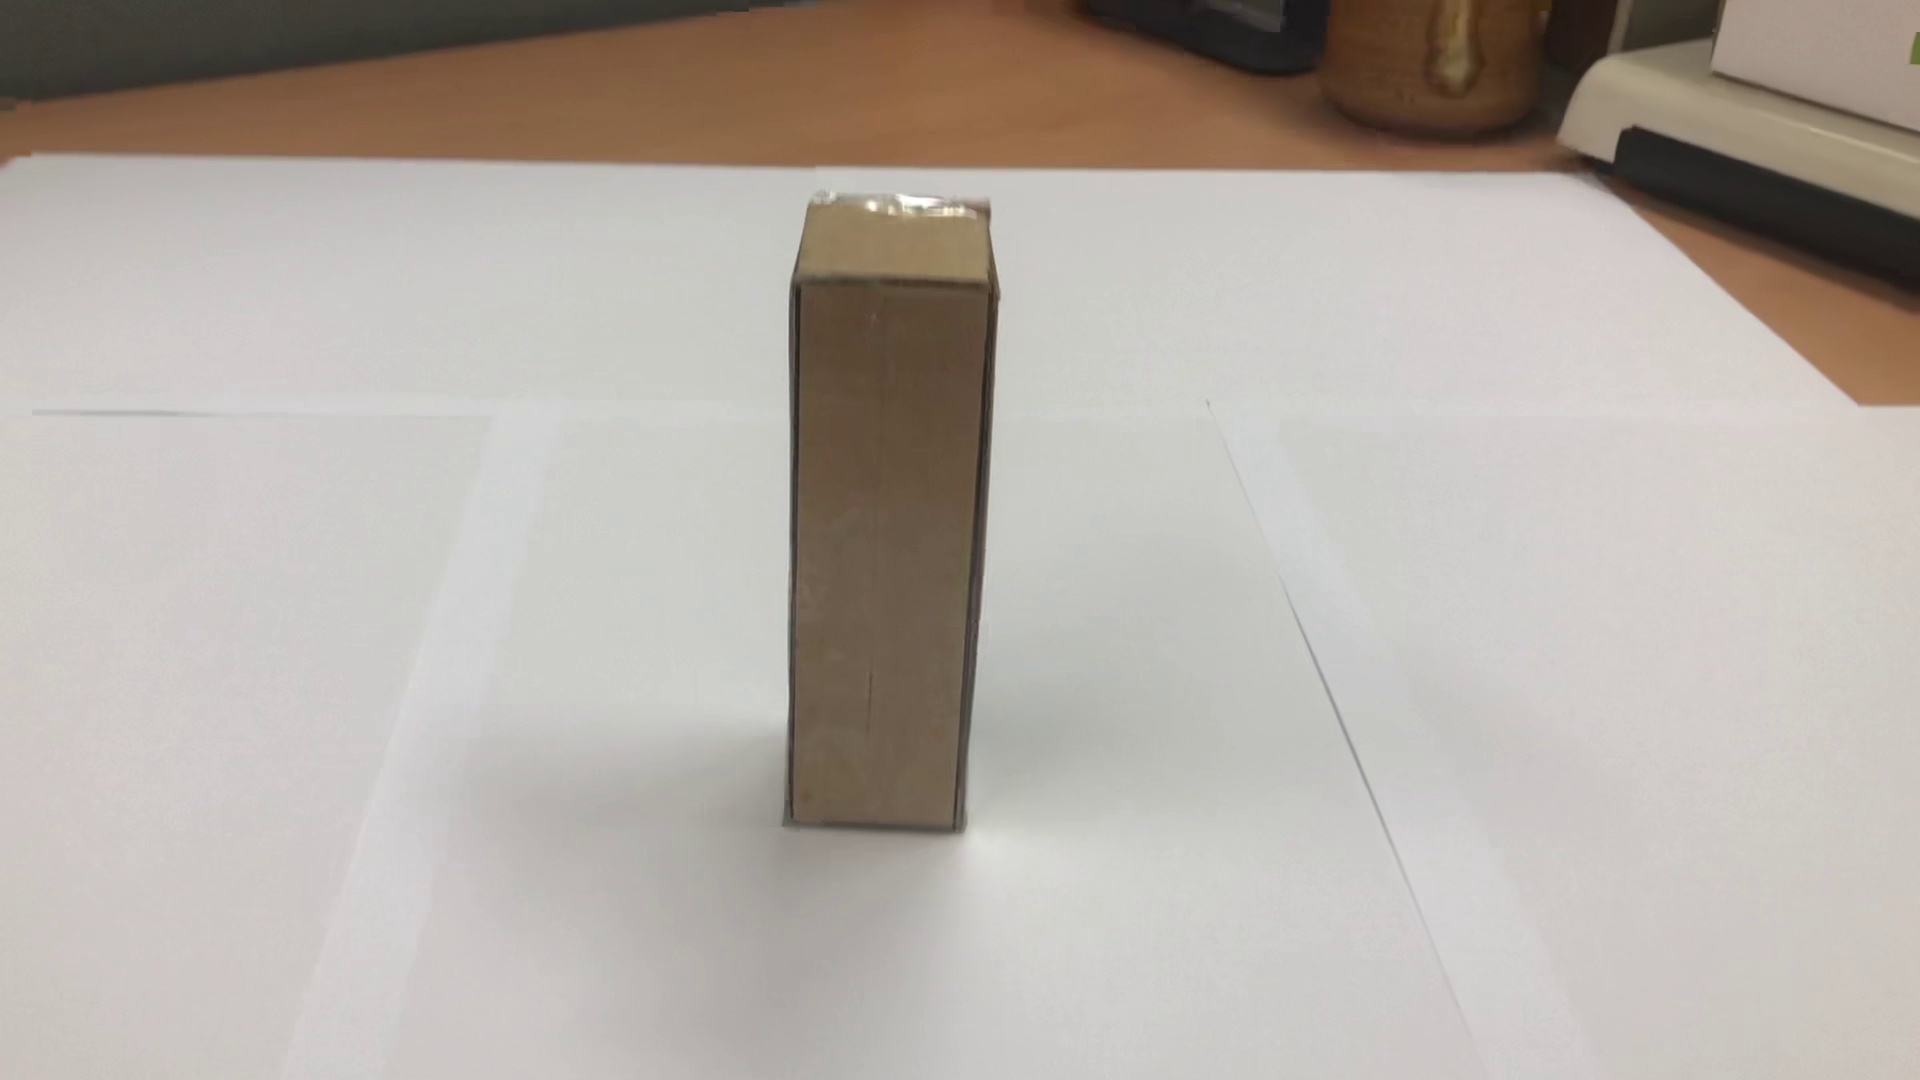box: (756, 173, 1005, 868)
